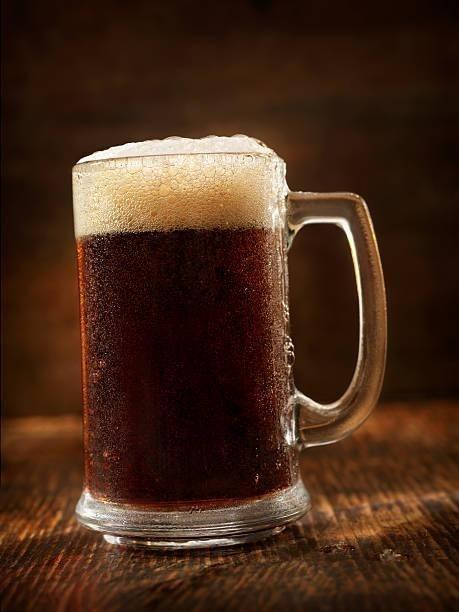glass-mug: (67, 135, 392, 554)
